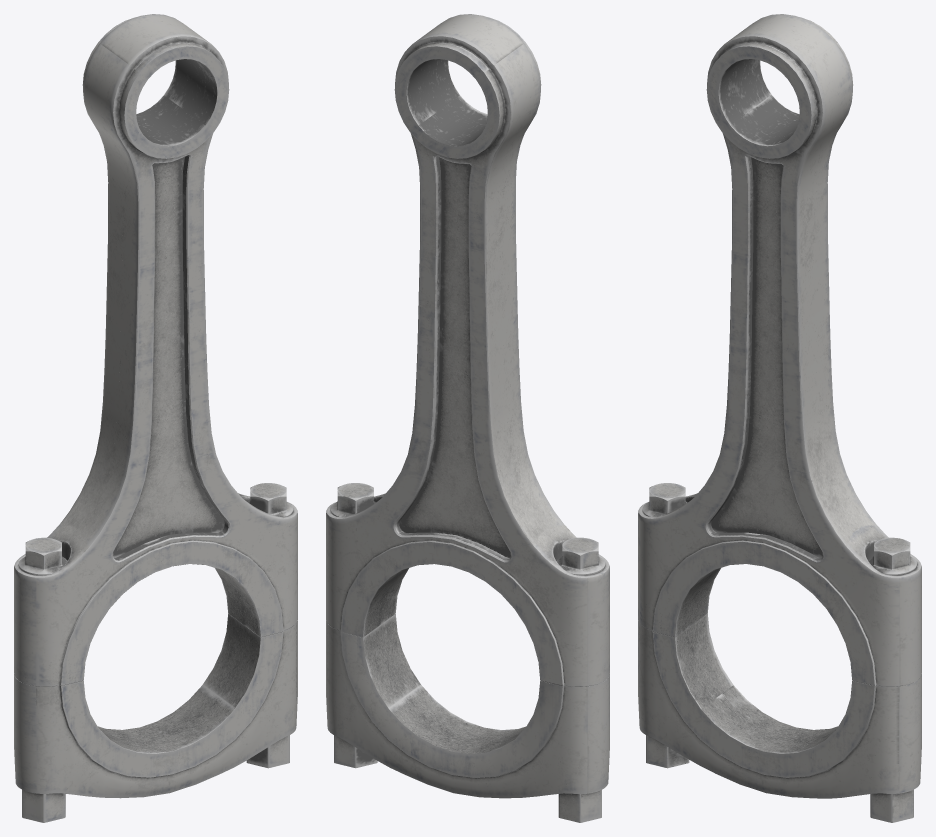
The model's file is connectingRod.glb.
3 views of the same model, side by side, from view 1: azimuth 30°, elevation 25°; view 2: azimuth 150°, elevation 25°; view 3: azimuth 330°, elevation 25° (orthographic).
Visible parts, largest first — view 1: ConnectingRod; view 2: ConnectingRod; view 3: ConnectingRod.
Boxes of the visible parts, x1=… form: ConnectingRod: x1=14, y1=14, x2=297, y2=822; ConnectingRod: x1=326, y1=14, x2=609, y2=822; ConnectingRod: x1=638, y1=14, x2=921, y2=822.
Bounding box in the file's own units: 3.57 × 9.43 × 0.9335.
1 material, 1 textured.
